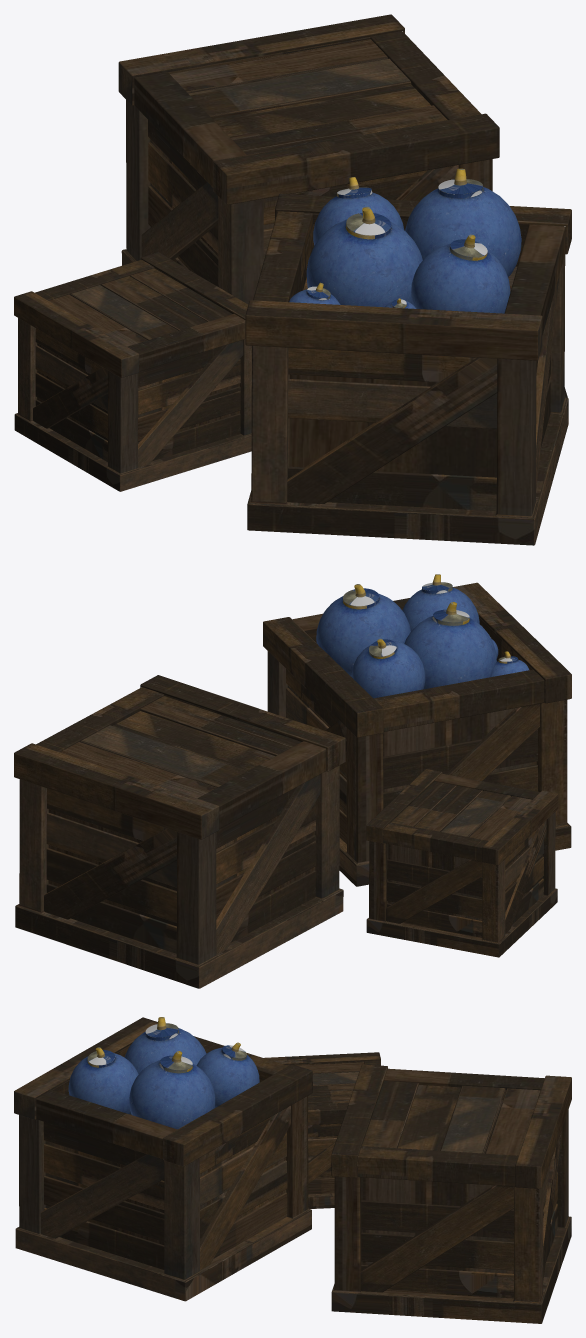
The model's file is wooden-crates.glb.
The picture shows the model from 3 angles, top to bottom: view 1: azimuth 30°, elevation 25°; view 2: azimuth 150°, elevation 25°; view 3: azimuth 270°, elevation 25°; orthographic projection. The views are drawn at different scales.
Visible parts, largest first — view 1: Crate_Crate_0, Bomb_002_Bombs_0, Bomb_001_Bombs_0, Bomb_004_Bombs_0, Bomb_Bombs_0, Bomb_003_Bombs_0; view 2: Crate_Crate_0, Bomb_002_Bombs_0, Bomb_001_Bombs_0, Bomb_Bombs_0, Bomb_004_Bombs_0, Bomb_003_Bombs_0; view 3: Crate_Crate_0, Bomb_001_Bombs_0, Bomb_004_Bombs_0, Bomb_Bombs_0, Bomb_002_Bombs_0.
Boxes of the visible parts, x1=… form: Crate_Crate_0: x1=14, y1=14, x2=571, y2=545; Bomb_002_Bombs_0: x1=306, y1=206, x2=422, y2=307; Bomb_001_Bombs_0: x1=405, y1=168, x2=521, y2=277; Bomb_004_Bombs_0: x1=411, y1=234, x2=510, y2=313; Bomb_Bombs_0: x1=313, y1=177, x2=404, y2=245; Bomb_003_Bombs_0: x1=289, y1=282, x2=340, y2=304; Crate_Crate_0: x1=14, y1=582, x2=571, y2=988; Bomb_002_Bombs_0: x1=404, y1=602, x2=496, y2=689; Bomb_001_Bombs_0: x1=316, y1=584, x2=410, y2=676; Bomb_Bombs_0: x1=351, y1=638, x2=425, y2=698; Bomb_004_Bombs_0: x1=402, y1=574, x2=479, y2=631; Bomb_003_Bombs_0: x1=490, y1=651, x2=529, y2=677; Crate_Crate_0: x1=14, y1=1017, x2=571, y2=1323; Bomb_001_Bombs_0: x1=129, y1=1051, x2=215, y2=1129; Bomb_004_Bombs_0: x1=68, y1=1047, x2=138, y2=1114; Bomb_Bombs_0: x1=196, y1=1042, x2=259, y2=1107; Bomb_002_Bombs_0: x1=124, y1=1017, x2=206, y2=1073.
Size of the model in its own units: 207 by 116 by 279.
Materials: 2 (2 with a texture image).
